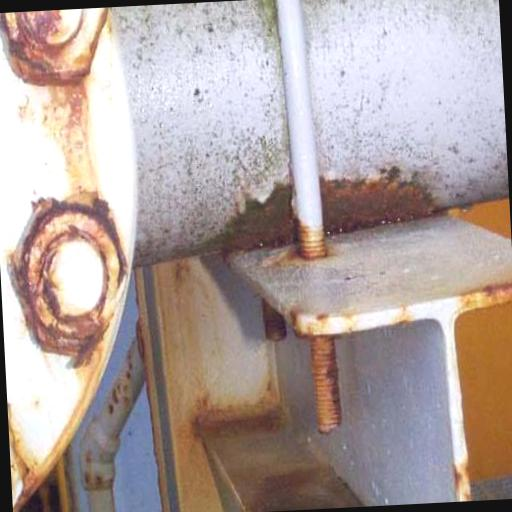corrosion: (174, 153, 446, 284), (21, 290, 106, 367), (0, 10, 81, 84), (2, 241, 61, 339), (193, 396, 283, 439), (309, 334, 344, 433), (47, 80, 96, 146), (262, 298, 287, 340), (273, 467, 315, 488), (54, 226, 93, 241)
